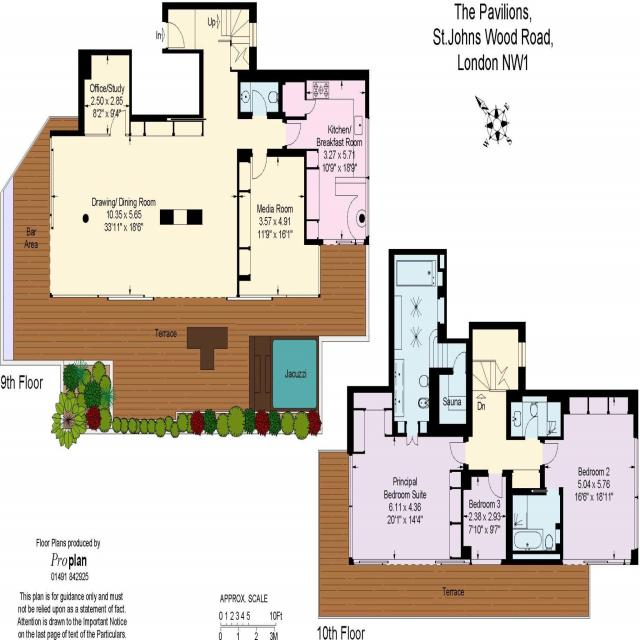DOOR: (161, 20, 186, 50), (282, 121, 303, 148), (486, 468, 503, 501), (252, 147, 268, 182), (109, 108, 127, 139), (252, 88, 269, 120), (540, 441, 560, 468), (448, 440, 467, 465), (524, 414, 539, 442), (452, 350, 467, 376)
ROOM: (346, 385, 474, 568), (540, 388, 639, 566), (278, 69, 370, 247), (460, 468, 514, 566)
WINDOW: (364, 117, 370, 179), (633, 436, 639, 498), (364, 177, 370, 238), (348, 453, 354, 508), (348, 505, 354, 559), (633, 496, 639, 550), (470, 558, 503, 567), (517, 340, 527, 369), (248, 21, 258, 48), (624, 558, 631, 566)
